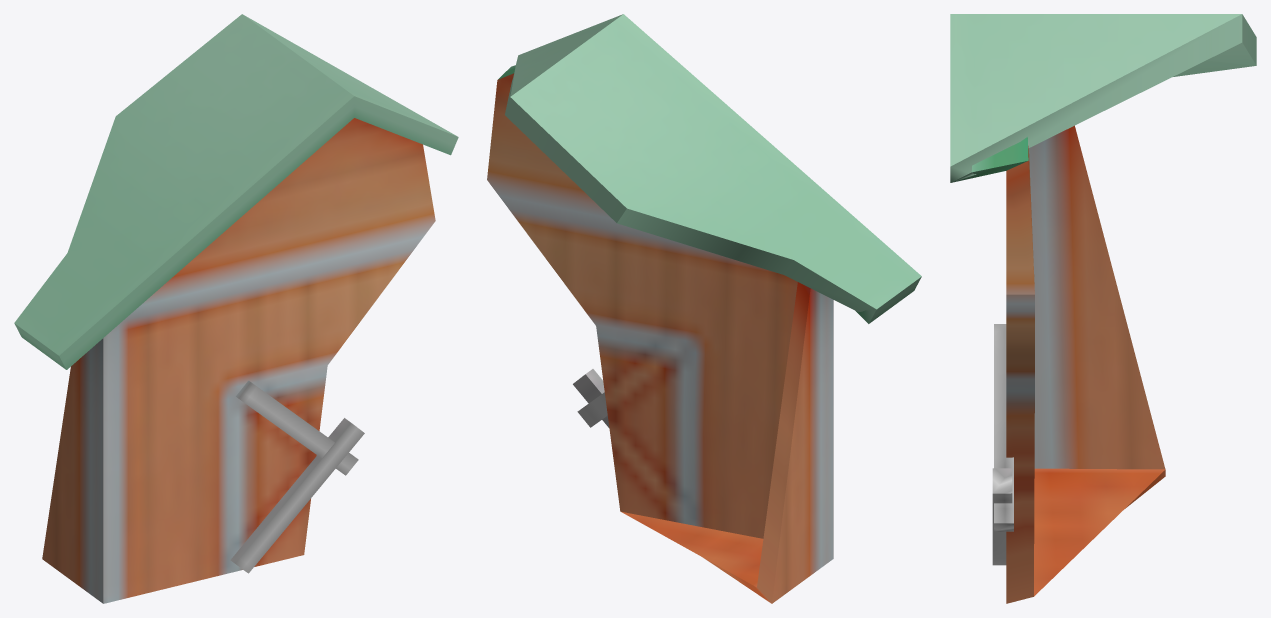
The model's file is B4Broke01.FBX.
The picture shows the model from 3 angles, left to right: view 1: azimuth 30°, elevation 25°; view 2: azimuth 150°, elevation 25°; view 3: azimuth 270°, elevation 25°; orthographic projection. The views are drawn at different scales.
Visible parts, largest first — view 1: B4Broke01; view 2: B4Broke01; view 3: B4Broke01.
Boxes of the visible parts, bbox=[...] form: B4Broke01: bbox=[14, 14, 458, 603]; B4Broke01: bbox=[487, 14, 921, 603]; B4Broke01: bbox=[950, 14, 1256, 603].
Size of the model in its own units: 48.75 by 54.5 by 24.87.
